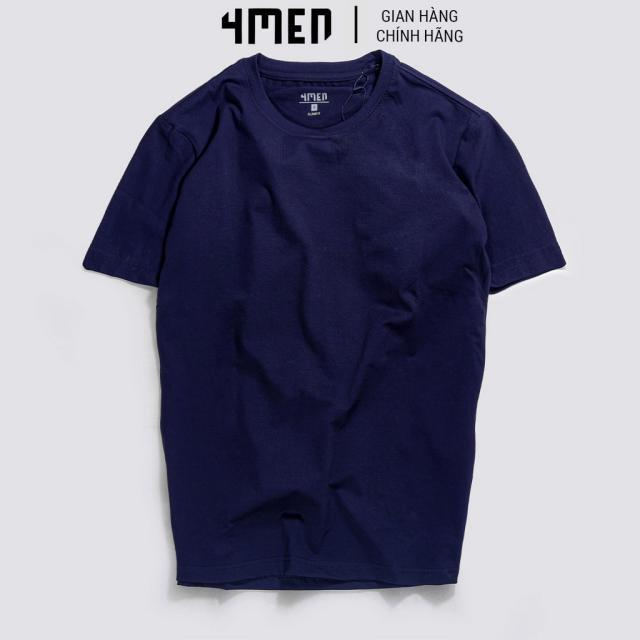Shirt: (82, 53, 569, 600)
